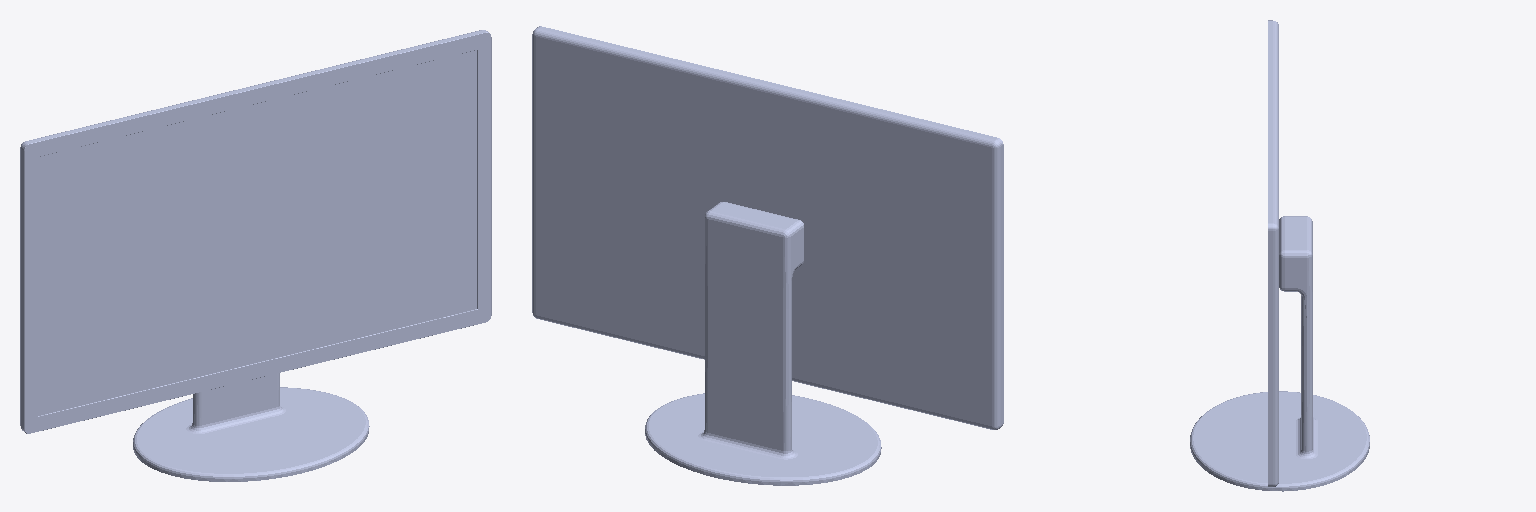
URDF robot description (monitor):
<robot
  name="monitor">
  <link
    name="monitor">
    <inertial>
      <origin
        xyz="-6.7009E-07 -0.00172839999999999 0.19617"
        rpy="0 0 0" />
      <mass
        value="2.679" />
      <inertia
        ixx="0.0352988136524921"
        ixy="3.94586205210099E-07"
        ixz="3.11035760007391E-07"
        iyy="0.0857103505635743"
        iyz="0.00108876273489791"
        izz="0.0526742733412589" />
    </inertial>
    <visual>
      <origin
        xyz="0 0 0"
        rpy="0 0 0" />
      <geometry>
        <mesh
          filename="package://monitor/meshes/monitor.dae" />
      </geometry>
      <material
        name="">
        <color
          rgba="0.79216 0.81961 0.93333 1" />
      </material>
    </visual>
    <collision>
      <origin
        xyz="0 0 0"
        rpy="0 0 0" />
      <geometry>
        <mesh
          filename="package://monitor/meshes/monitor.dae" />
      </geometry>
    </collision>
  </link>
</robot>

--- What the picture shows (computed from the rendered views, not written in the file) ---
Views: 3 orthographic renders of the robot side by side, from view 1: azimuth 30°, elevation 25°; view 2: azimuth 150°, elevation 25°; view 3: azimuth 270°, elevation 25°.
Model monitor with 1 links and 0 joints (none), rooted at monitor, posed every joint at zero.
Visible links, largest first — view 1: monitor; view 2: monitor; view 3: monitor.
Link boxes in pixels (bbox=[...]): monitor: bbox=[20, 30, 491, 481]; monitor: bbox=[532, 26, 1003, 485]; monitor: bbox=[1190, 20, 1369, 491].
Size in the robot's own frame: 0.5436 by 0.2 by 0.3937 metres.
1 mesh visuals loaded from 1 distinct referenced files (1 Collada DAE).